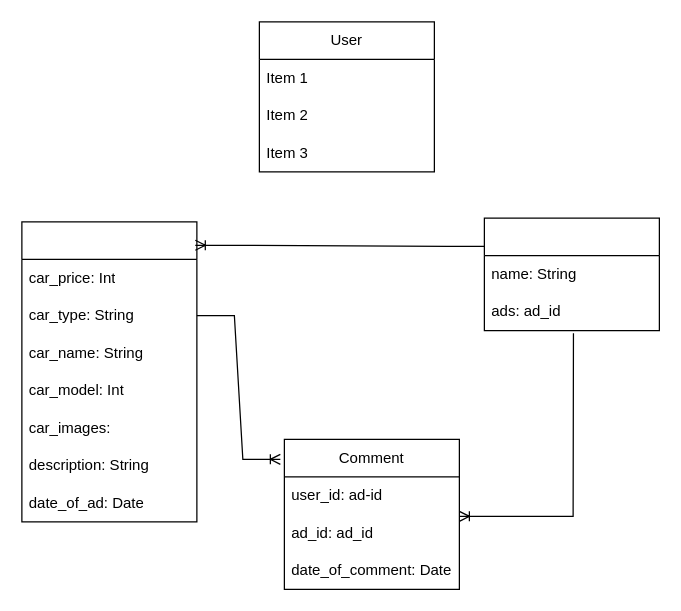
Image size: 681x611. Some labels were removed from this diagram. The shapes that lost their labels are listed below. From the top down, each one's box as (x1, y1, x2, y2) in pixels, then its label:
(483, 217, 659, 331): UserProfile
(21, 221, 197, 522): Ad
